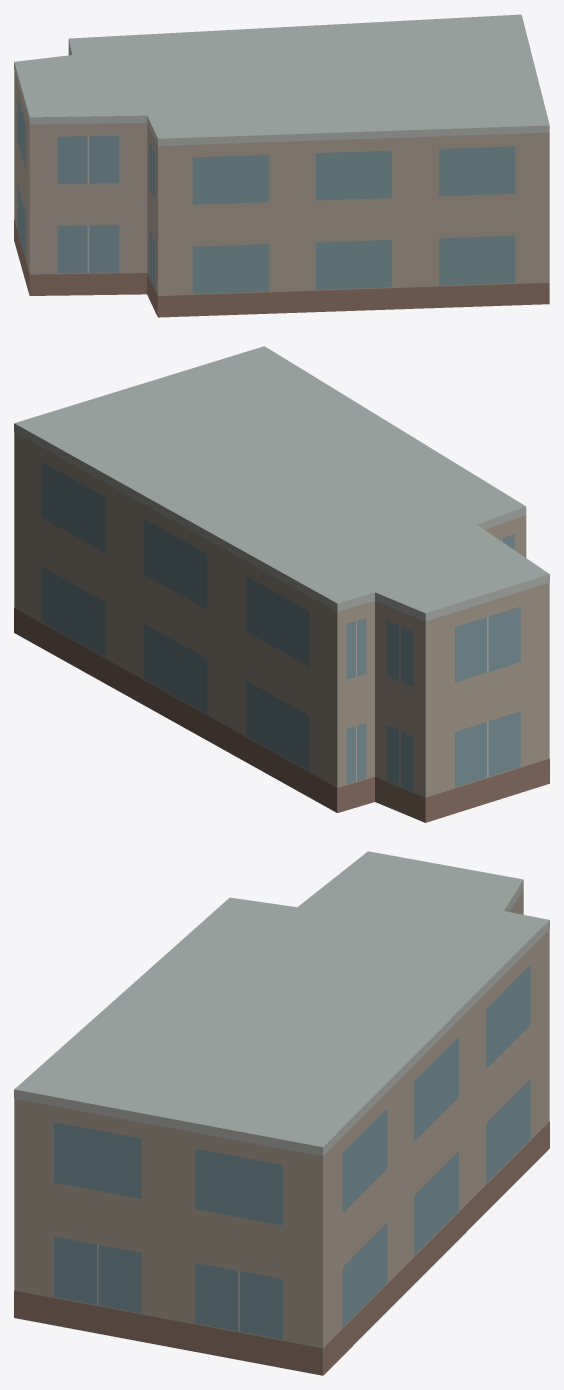
The model's file is survey-upis-32657491.glb.
The picture shows the model from 3 angles, top to bottom: view 1: azimuth 30°, elevation 25°; view 2: azimuth 150°, elevation 25°; view 3: azimuth 270°, elevation 25°; orthographic projection. The views are drawn at different scales.
Parts seen in each view (by area): view 1: survey-upis-32657491.tmp; view 2: survey-upis-32657491.tmp; view 3: survey-upis-32657491.tmp.
Part boxes in pixels (left/top/right/bottom): survey-upis-32657491.tmp: left=14, top=14, right=549, bottom=317; survey-upis-32657491.tmp: left=14, top=346, right=549, bottom=822; survey-upis-32657491.tmp: left=14, top=851, right=549, bottom=1375.
Bounding box in the file's own units: 16.96 × 6.1 × 12.97.
